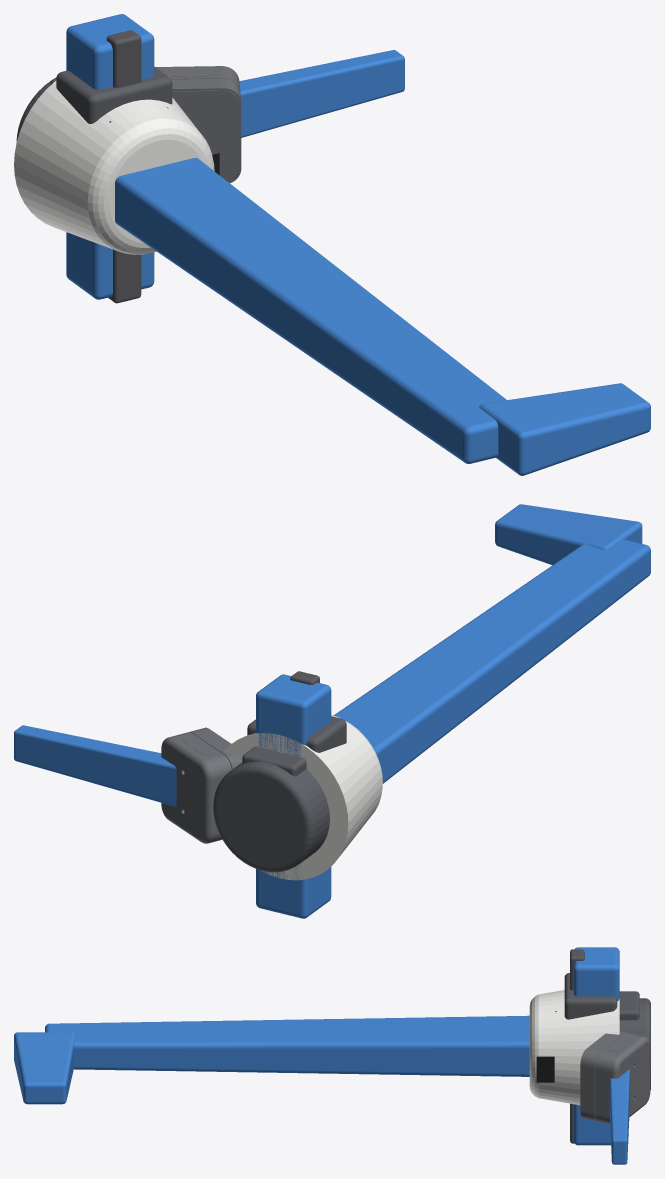
File: arm.glb
3 renders of one model, top to bottom at view 1: azimuth 30°, elevation 25°; view 2: azimuth 150°, elevation 25°; view 3: azimuth 270°, elevation 25°, orthographic. The views are drawn at different scales.
Parts seen in each view (by area): view 1: b3, b1, b9, b4, b2; view 2: b3, b9, b1, b4, b2, b5; view 3: b3, b9, b1, b4, b2, b5, b7.
Boxes of the visible parts, x1,y1,x2,y2 form: b3: [16, 77, 650, 475]; b1: [14, 81, 214, 254]; b9: [66, 14, 241, 303]; b4: [239, 50, 404, 137]; b2: [56, 67, 172, 123]; b3: [213, 504, 650, 872]; b9: [161, 671, 331, 918]; b1: [224, 715, 382, 880]; b4: [14, 725, 176, 806]; b2: [247, 716, 346, 752]; b5: [242, 746, 306, 776]; b3: [14, 998, 650, 1104]; b9: [570, 947, 650, 1145]; b1: [529, 990, 619, 1105]; b4: [609, 1070, 629, 1164]; b2: [564, 973, 617, 1019]; b5: [619, 991, 639, 1020]; b7: [536, 1011, 556, 1082].
Size of the model in its own units: 0.1763 by 0.1145 by 0.3539.
